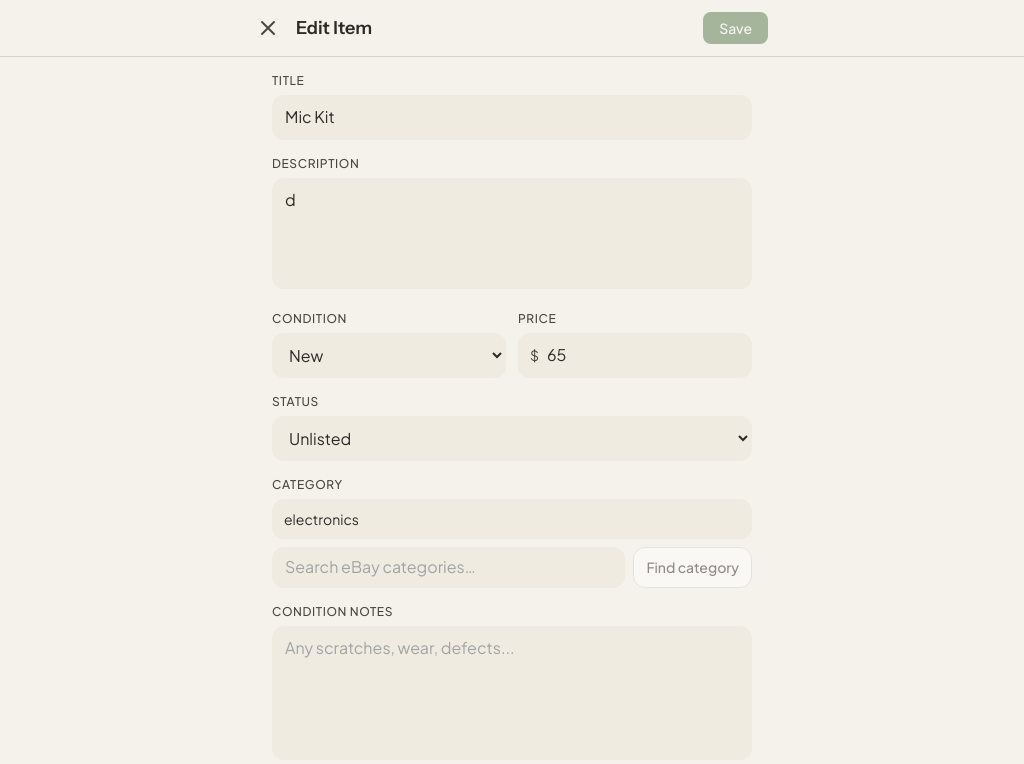
Test: EditItemPage — marketplace sync warnings (P3 T4) › stays on the page and shows the warning instead of navigating back when the save returns syncWarnings
Replace the text in the field named "Price (USD)" with "80" at (635, 355), box top-left (518, 333), bottom-right (752, 378)
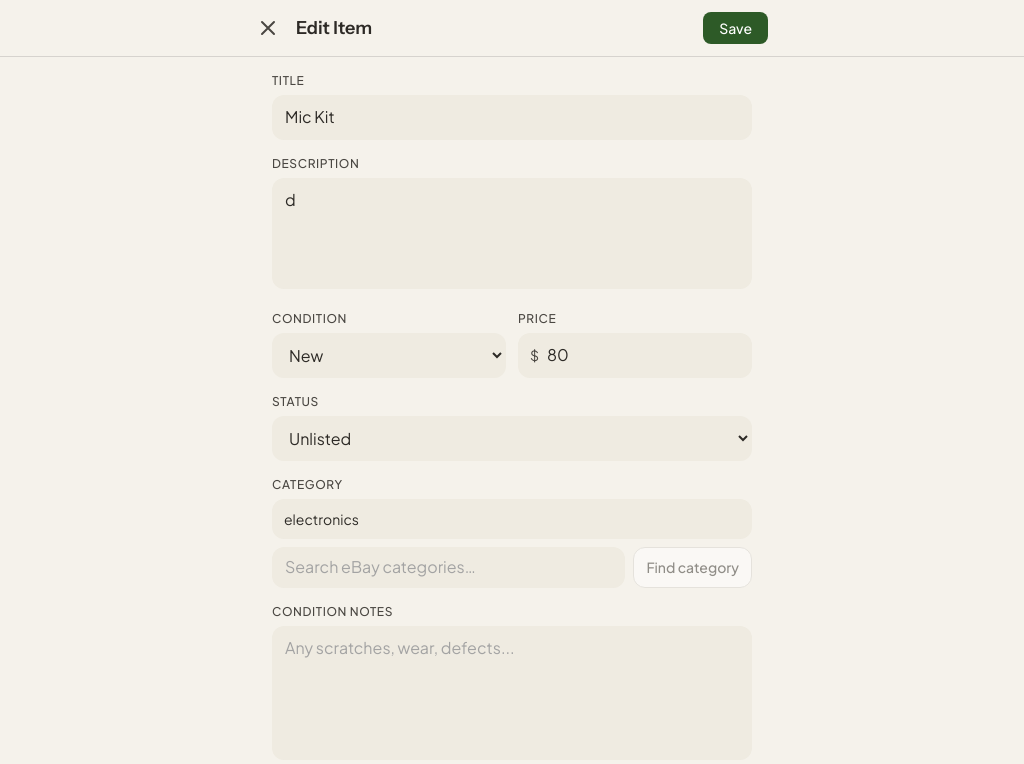
Click the button "Save" at (736, 28), box top-left (703, 12), bottom-right (768, 44)
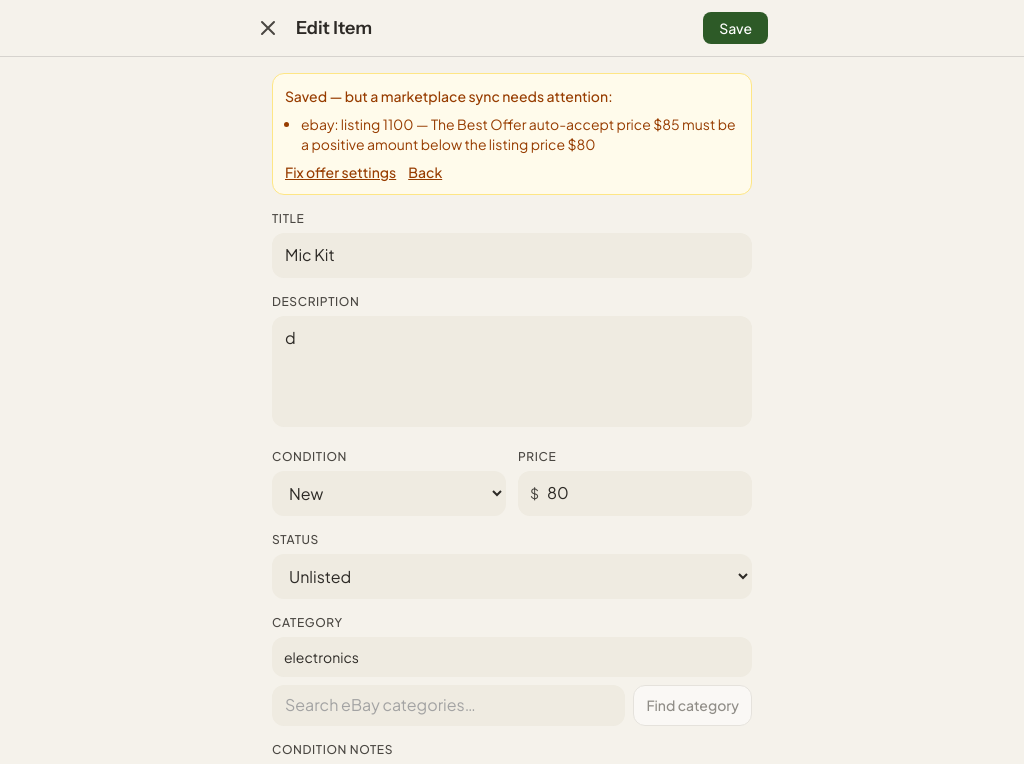
Check: the element with test id "sync-warning" shows "auto-accept price $85", box top-left (301, 115), bottom-right (736, 153)
Check: the element with test id "sync-warning" shows "Saved", box top-left (285, 87), bottom-right (613, 105)
